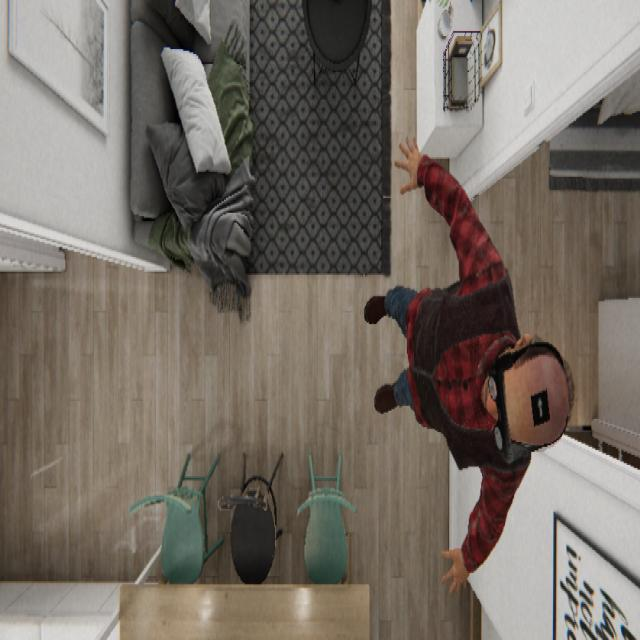Human: (363, 133, 574, 594)
UnityLogo: (529, 385, 551, 427)
